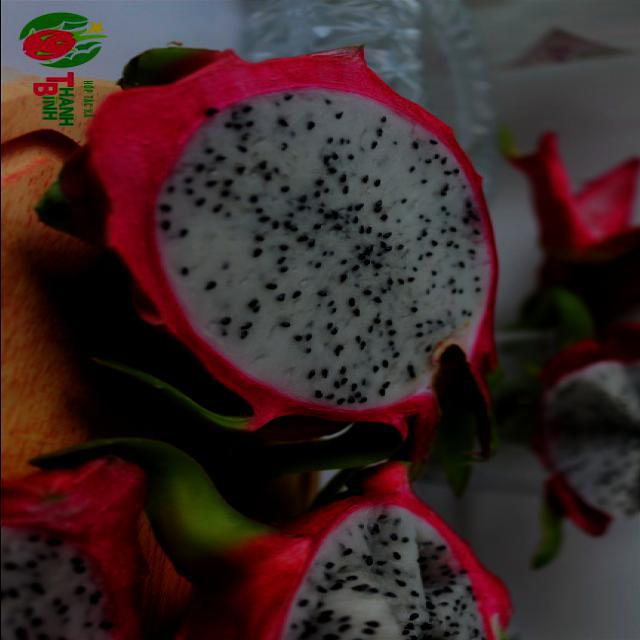trang: (41, 43, 503, 477), (152, 477, 510, 639), (2, 430, 152, 640)
